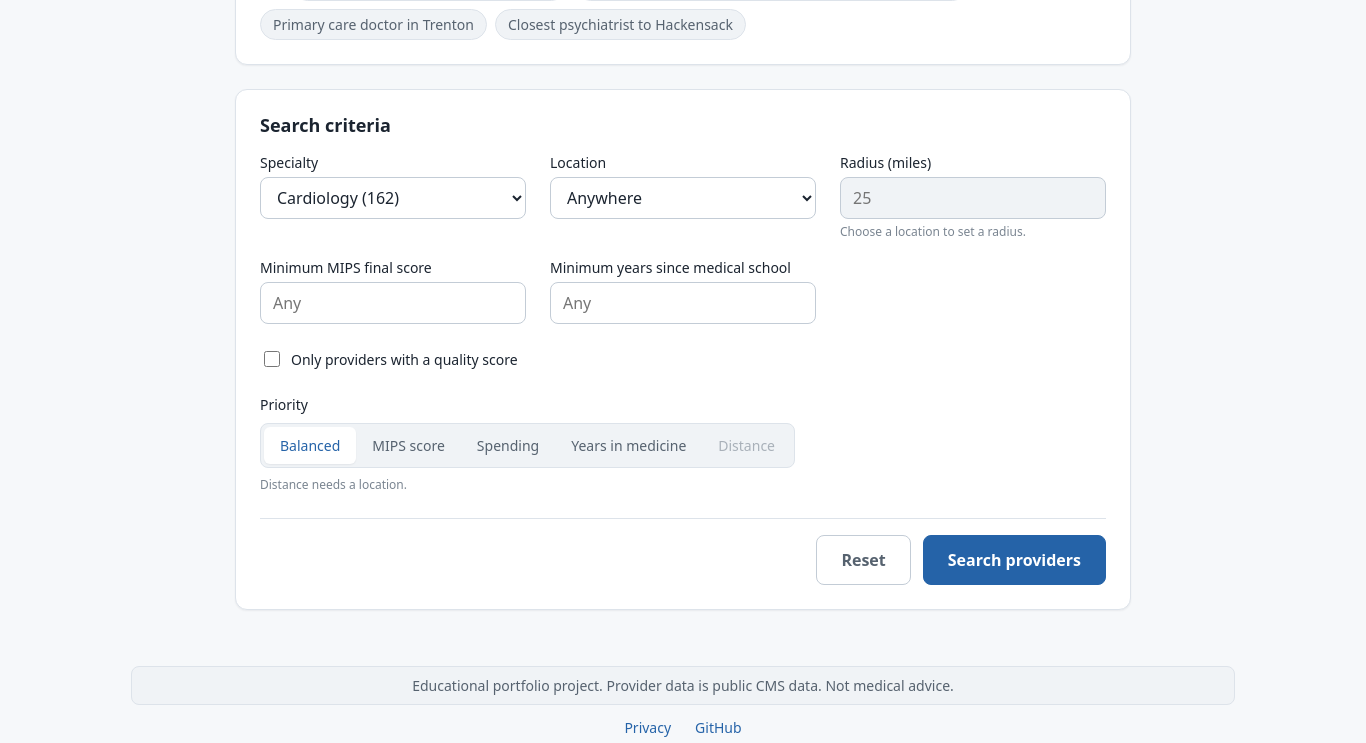
Test: the search page › sends require_quality_score from the checkbox, and never a condition
The image size is (1366, 743).
(page scrolled)
Click the checkbox labelled "Only providers with a quality score" at [272, 359], box [264,351,280,367]
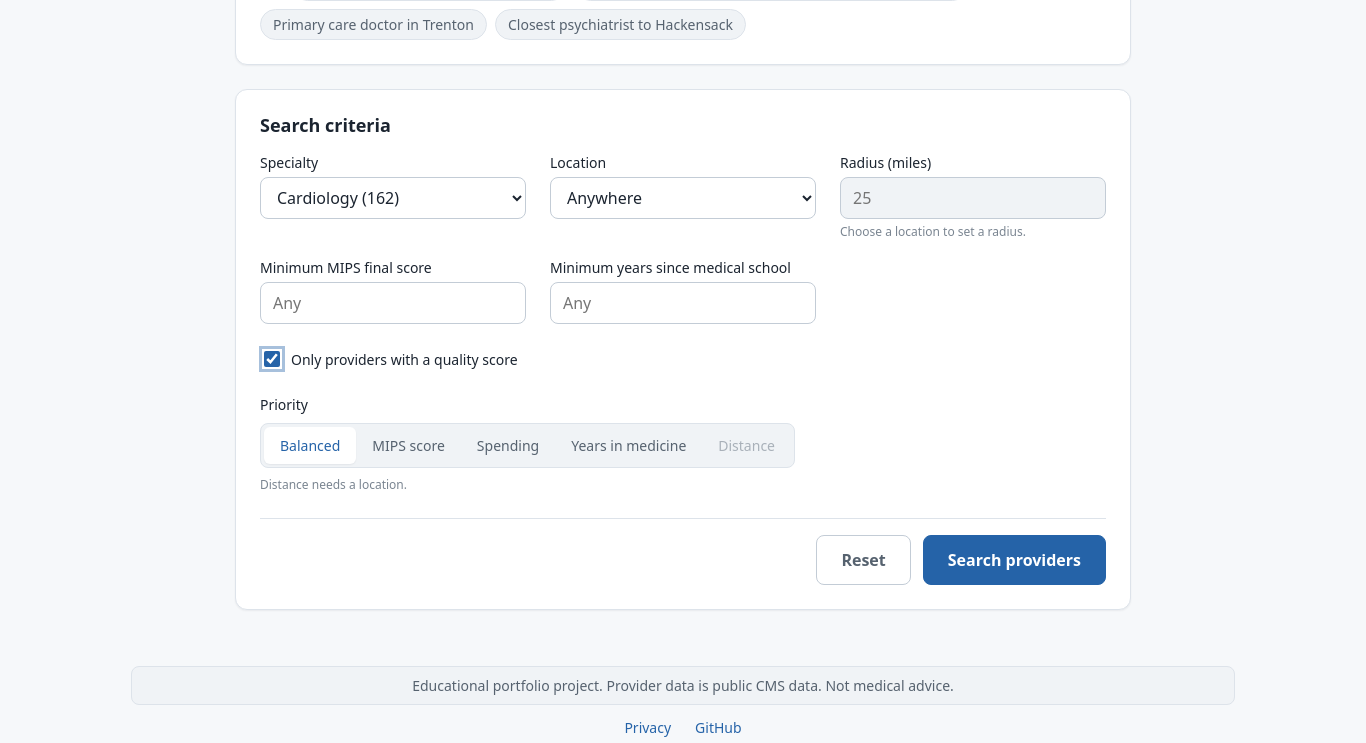
Click the button "Search providers" at [1014, 560], box [923,535,1106,585]
(page scrolled)
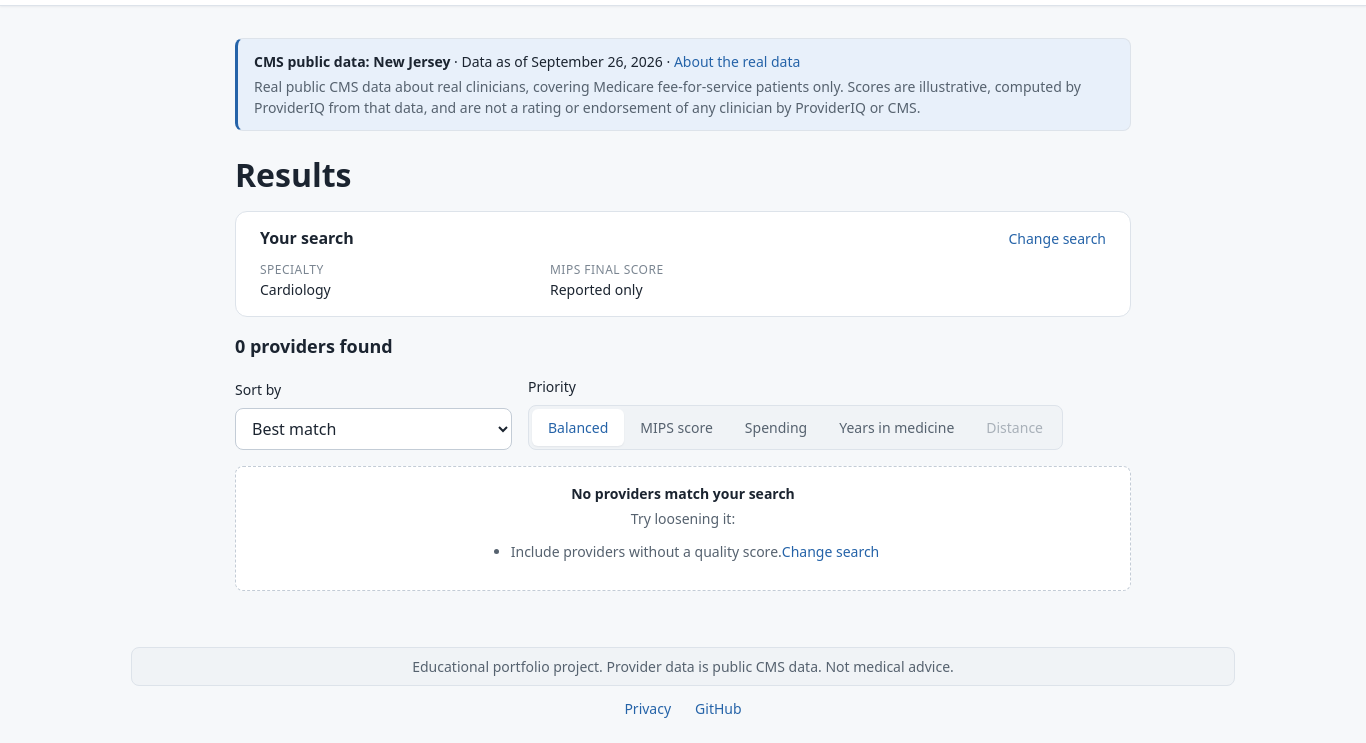
Expected: the text "No providers match your search" is shown, [571,484,795,503]
Expected: the list item "Include providers without a quality score." is shown, [511,541,782,562]
